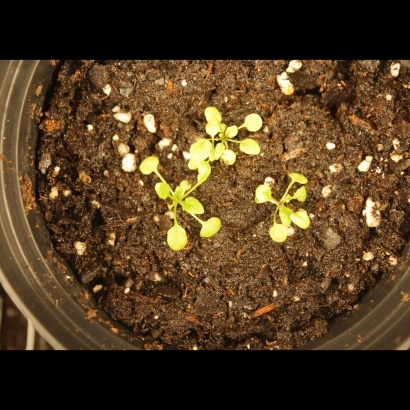leaf: (161, 221, 193, 258), (136, 150, 167, 180), (198, 215, 227, 243), (182, 196, 212, 219), (149, 181, 175, 207), (239, 136, 262, 162), (193, 161, 216, 184), (191, 139, 214, 162), (206, 139, 229, 162), (221, 149, 244, 172), (246, 112, 269, 135), (225, 118, 248, 141), (199, 120, 222, 143), (201, 106, 224, 129), (250, 183, 273, 206), (287, 164, 310, 187), (265, 223, 288, 246), (288, 209, 311, 232), (291, 184, 314, 207), (273, 203, 296, 226)
